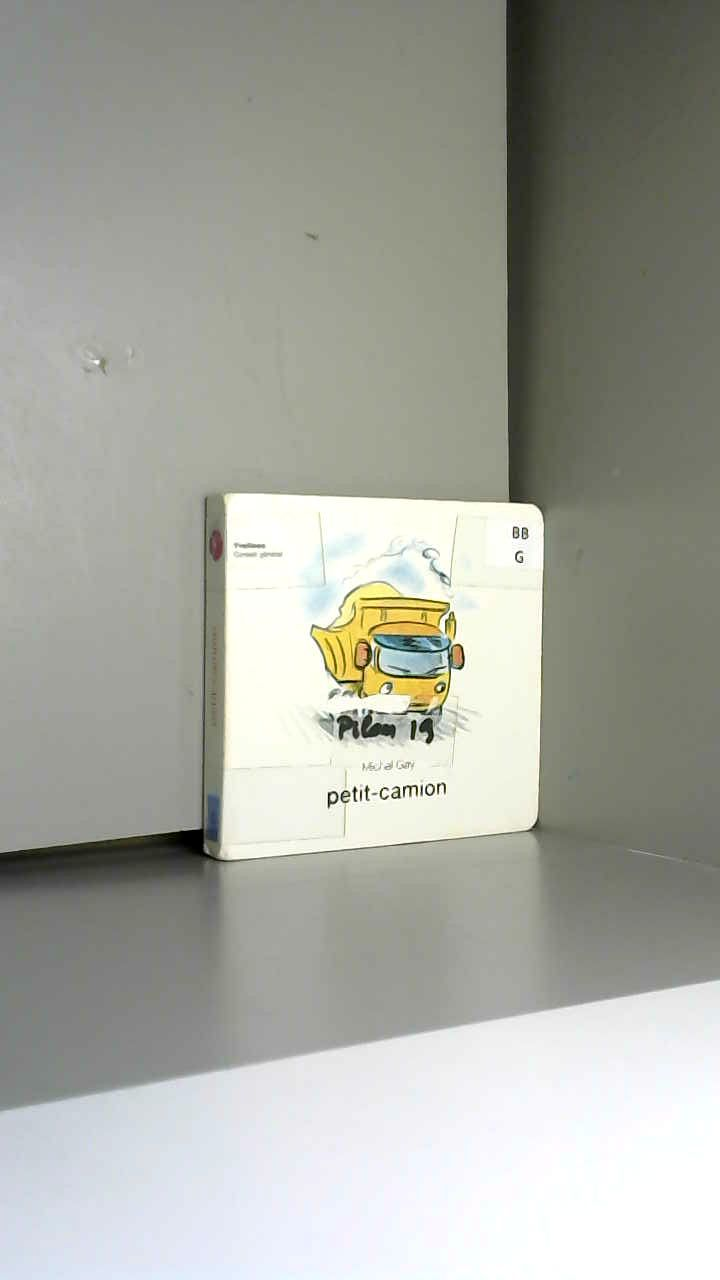book: (173, 454, 583, 900)
